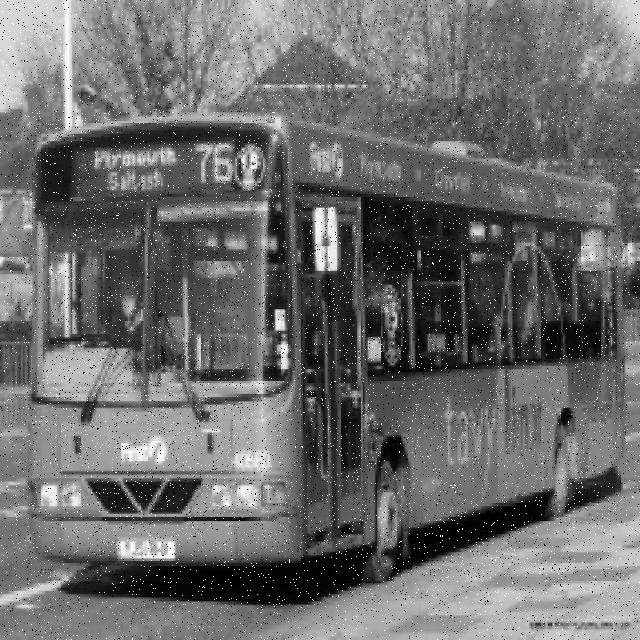Bus: (25, 112, 628, 584)
